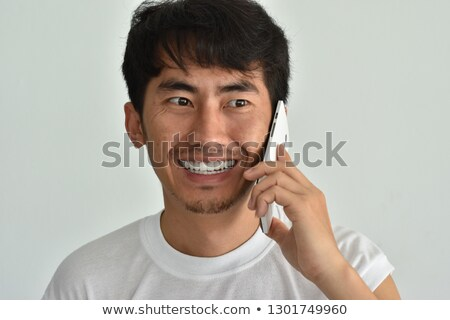phone: (250, 99, 291, 234)
talk: (147, 72, 339, 277)
